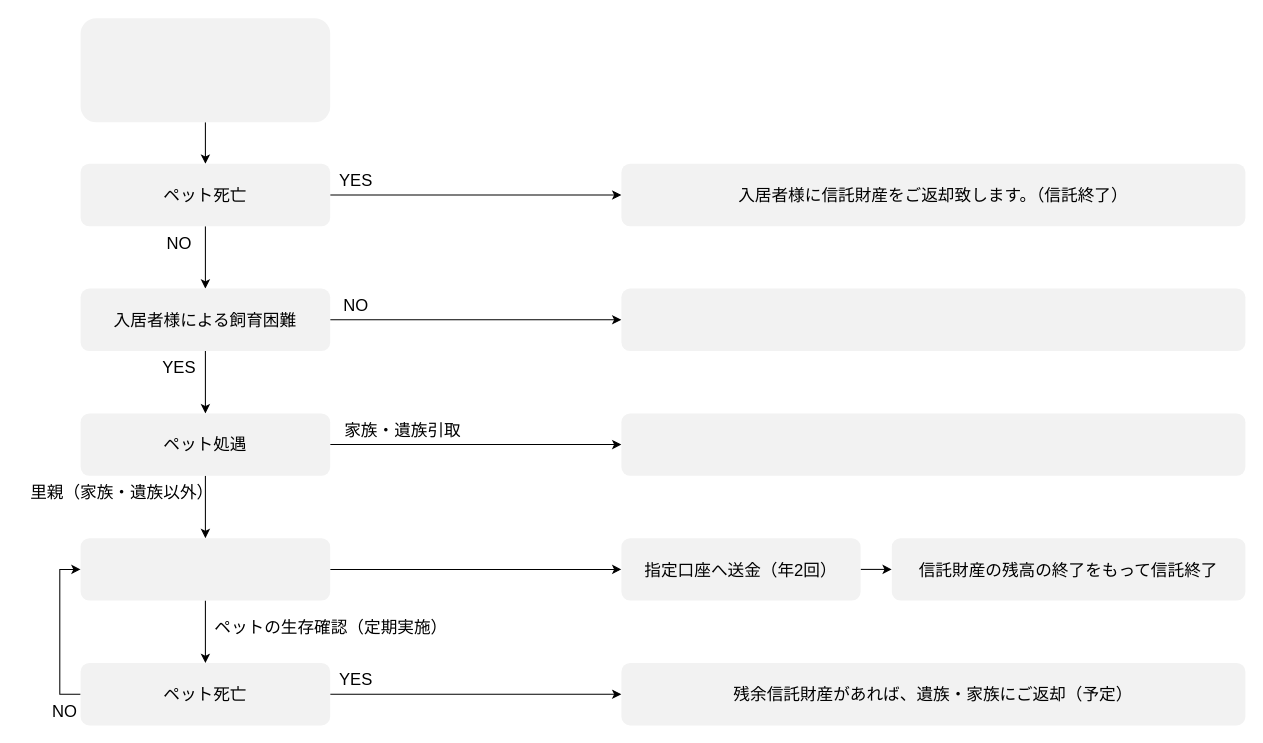
This 1263x743 diagram has some shape labels left out. Here are the shapes that lost their labels. From the top down, the centre of each, then its label:
At [205,70]: "信託契約 信託財産をお預かりします".
At [933,319]: "入居者様がペット保険料などを信託財産とは別に負担（信託は継続）".
At [933,444]: "家族・遺族に信託財産をご返却（信託終了）".
At [205,569]: "信託財産の交付 （年2回）".
